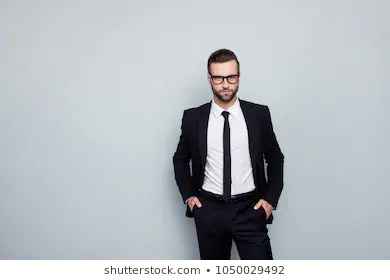F_M_suit jacket: (171, 95, 288, 227)
F_belt: (205, 188, 258, 207)
F_tie: (219, 108, 234, 208)
